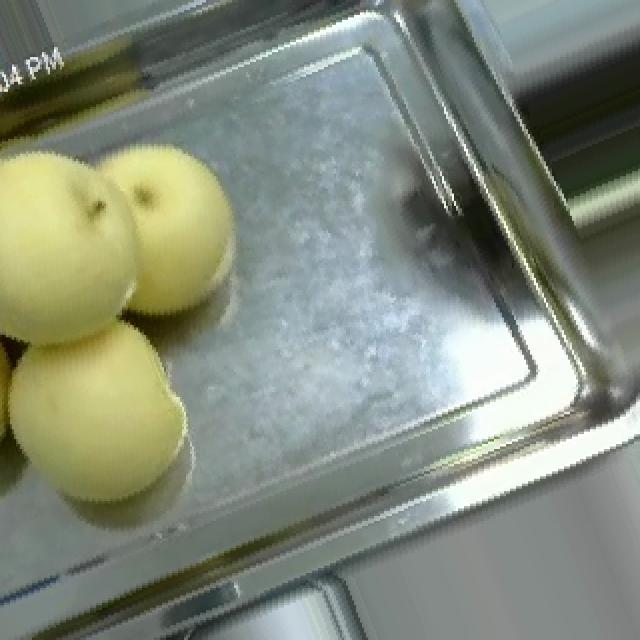Fruit: (0, 107, 272, 382), (0, 273, 220, 541)
